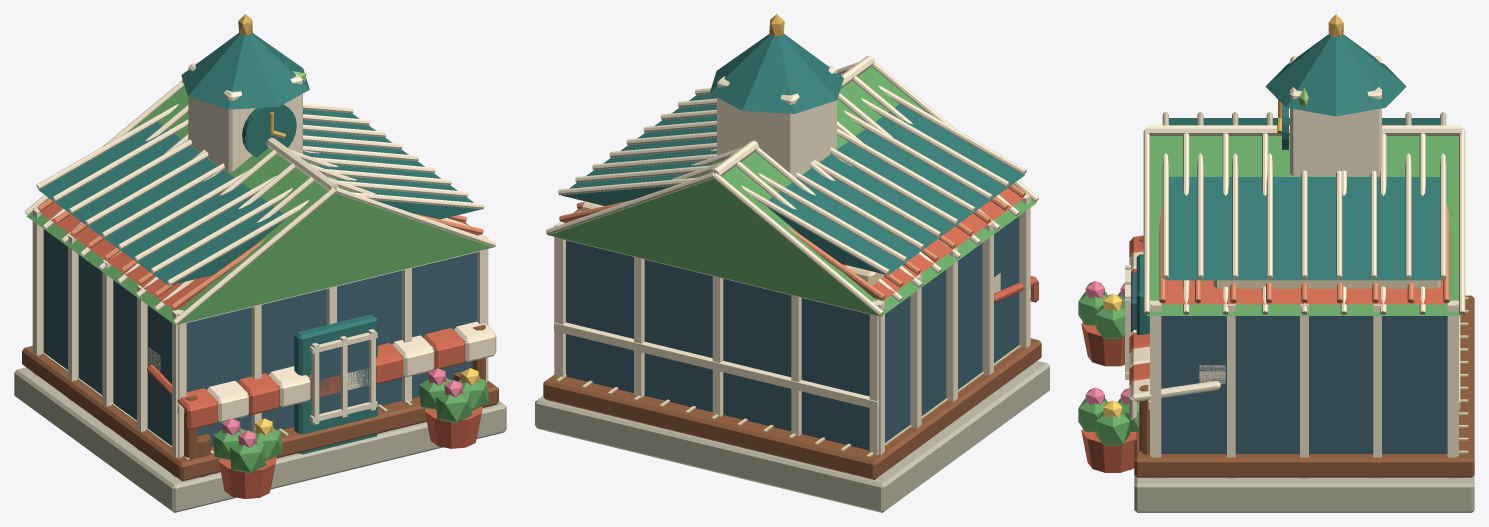
The model's file is neighborhoods.glb.
3 renders of one model, left to right at view 1: azimuth 30°, elevation 25°; view 2: azimuth 150°, elevation 25°; view 3: azimuth 270°, elevation 25°, orthographic. The views are drawn at different scales.
Parts seen in each view (by area): view 1: garden_conservatory_mesh, market_clock_gallery_mesh, harbor_boathouse_mesh; view 2: garden_conservatory_mesh, market_clock_gallery_mesh, harbor_boathouse_mesh; view 3: garden_conservatory_mesh, market_clock_gallery_mesh, harbor_boathouse_mesh.
Boxes of the visible parts, bbox=[...] form: garden_conservatory_mesh: bbox=[14, 71, 506, 512]; market_clock_gallery_mesh: bbox=[36, 14, 496, 429]; harbor_boathouse_mesh: bbox=[22, 198, 498, 481]; garden_conservatory_mesh: bbox=[535, 55, 1049, 512]; market_clock_gallery_mesh: bbox=[558, 14, 1038, 303]; harbor_boathouse_mesh: bbox=[543, 184, 1041, 479]; garden_conservatory_mesh: bbox=[1078, 88, 1474, 512]; market_clock_gallery_mesh: bbox=[1129, 14, 1446, 419]; harbor_boathouse_mesh: bbox=[1134, 204, 1474, 477].
Bounding box in the file's own units: 3.25 × 3.63 × 3.14.
